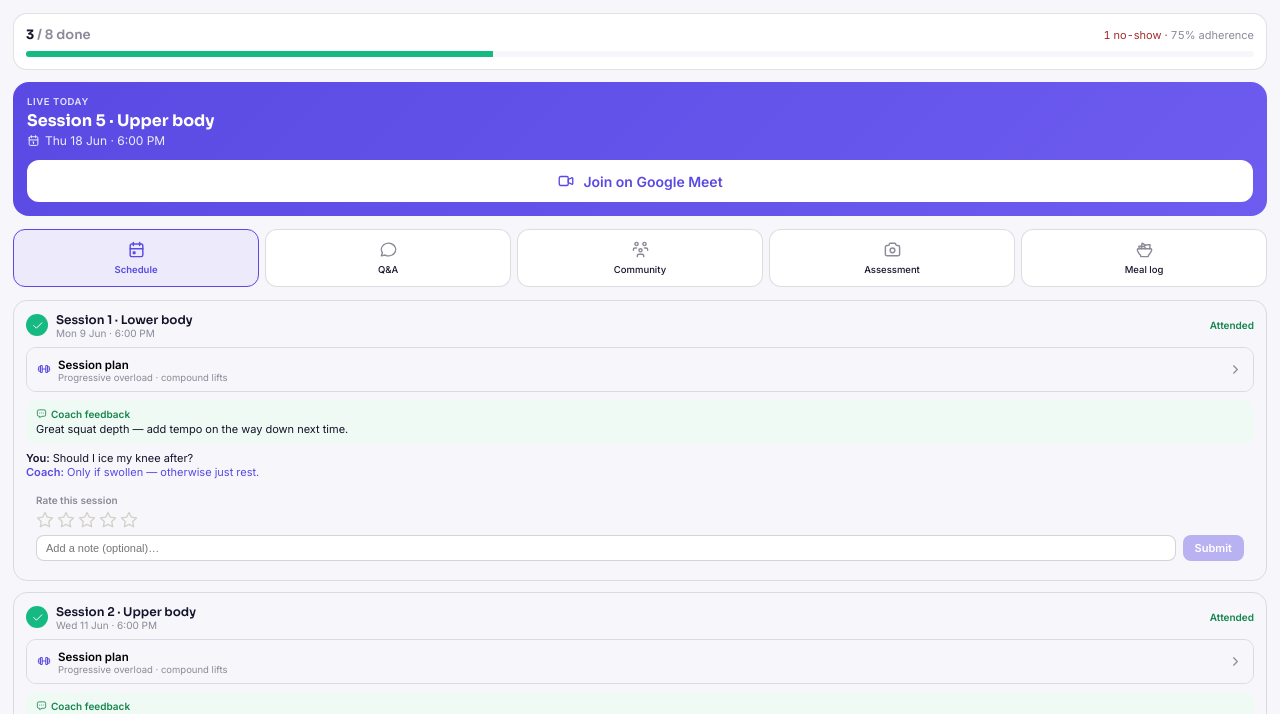
Test: ProgramDetailScreen › shows sessions with feedback and switches to community
This screenshot has width=1280, height=714.
Expected: the text "Great squat depth — add tempo on the way down next time." is shown, [36,422,348,436]
Click the button "Community" at (640, 258), box [517,229,763,287]
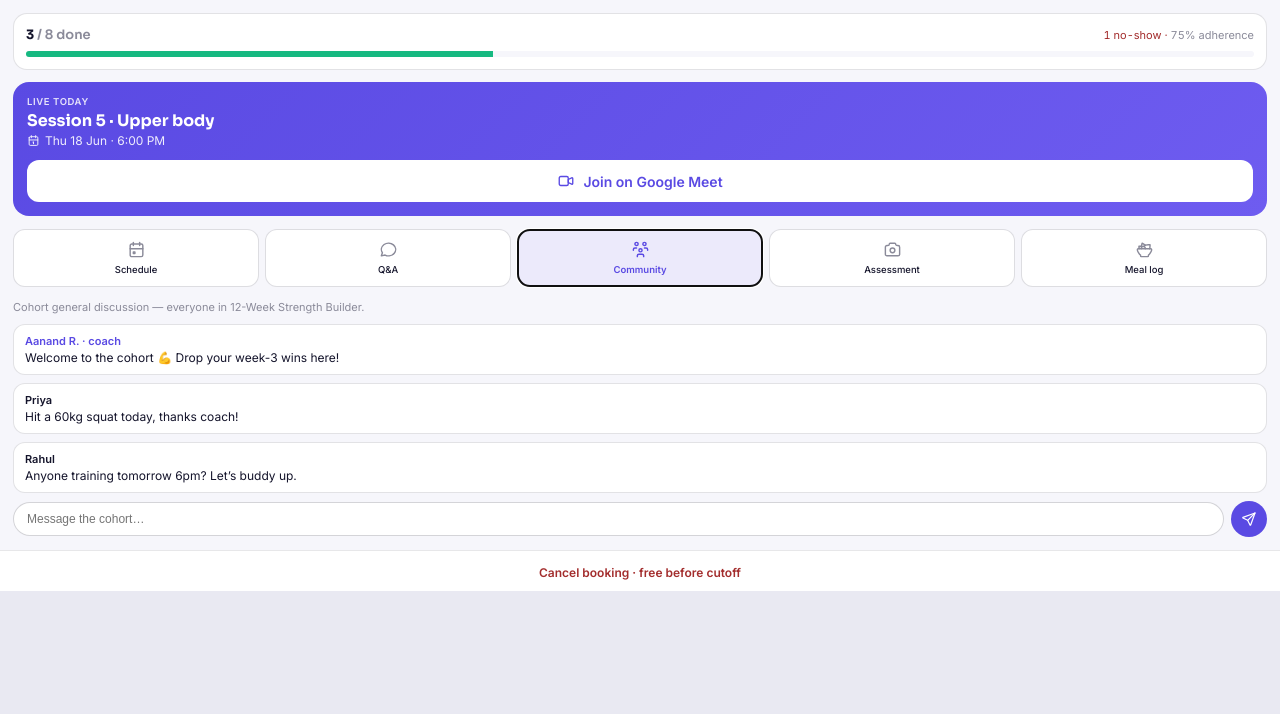
Now the text "general discussion" is shown, box [13,300,230,314]
